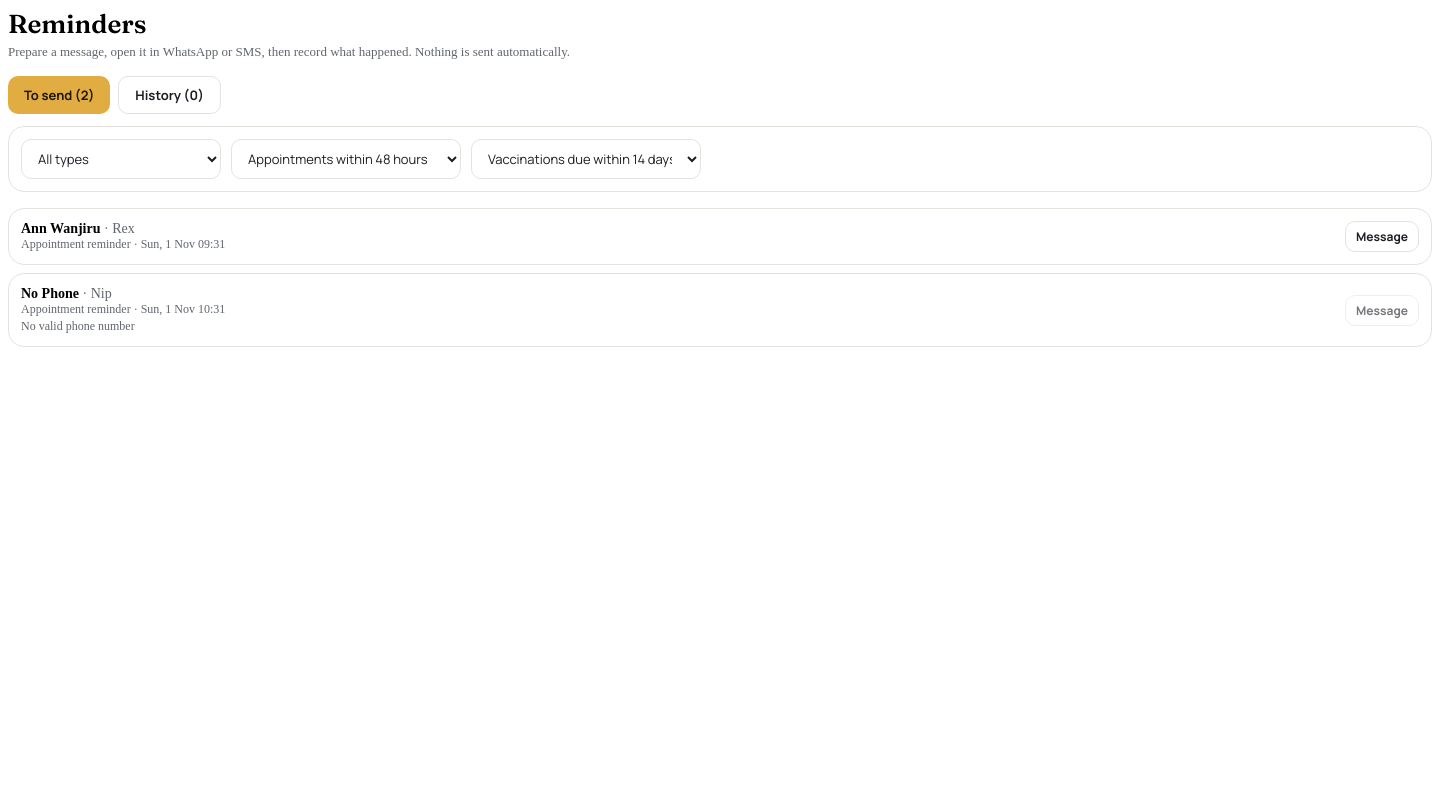
it: RemindersPage › shows a clear message when the database rejects the reminder
Step 1. Click the button with aria-label "Message Ann Wanjiru about Rex" → (1382, 236), box [1345,221,1419,252]
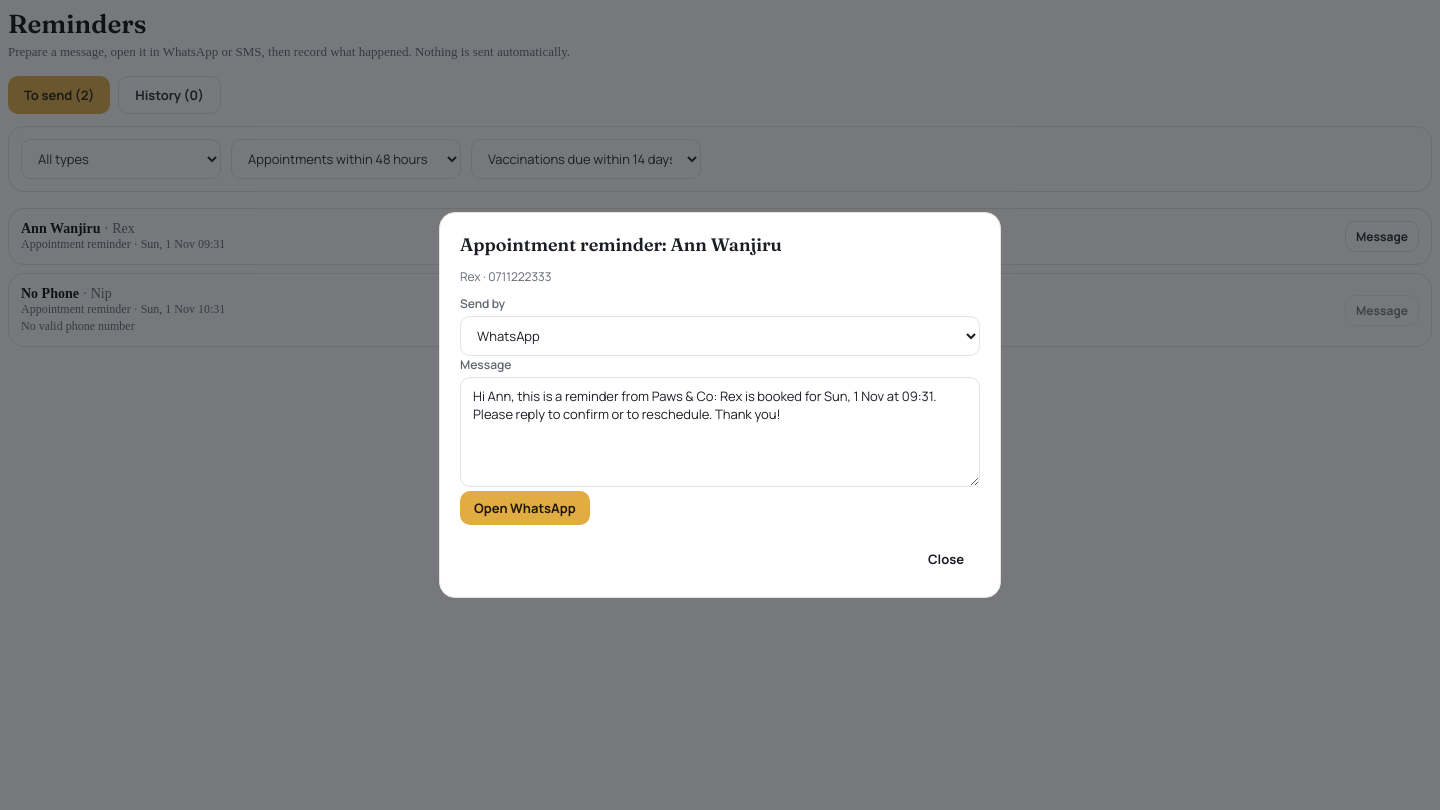
Step 2. Click the link "Open WhatsApp" → (525, 508), box [460,491,590,525]
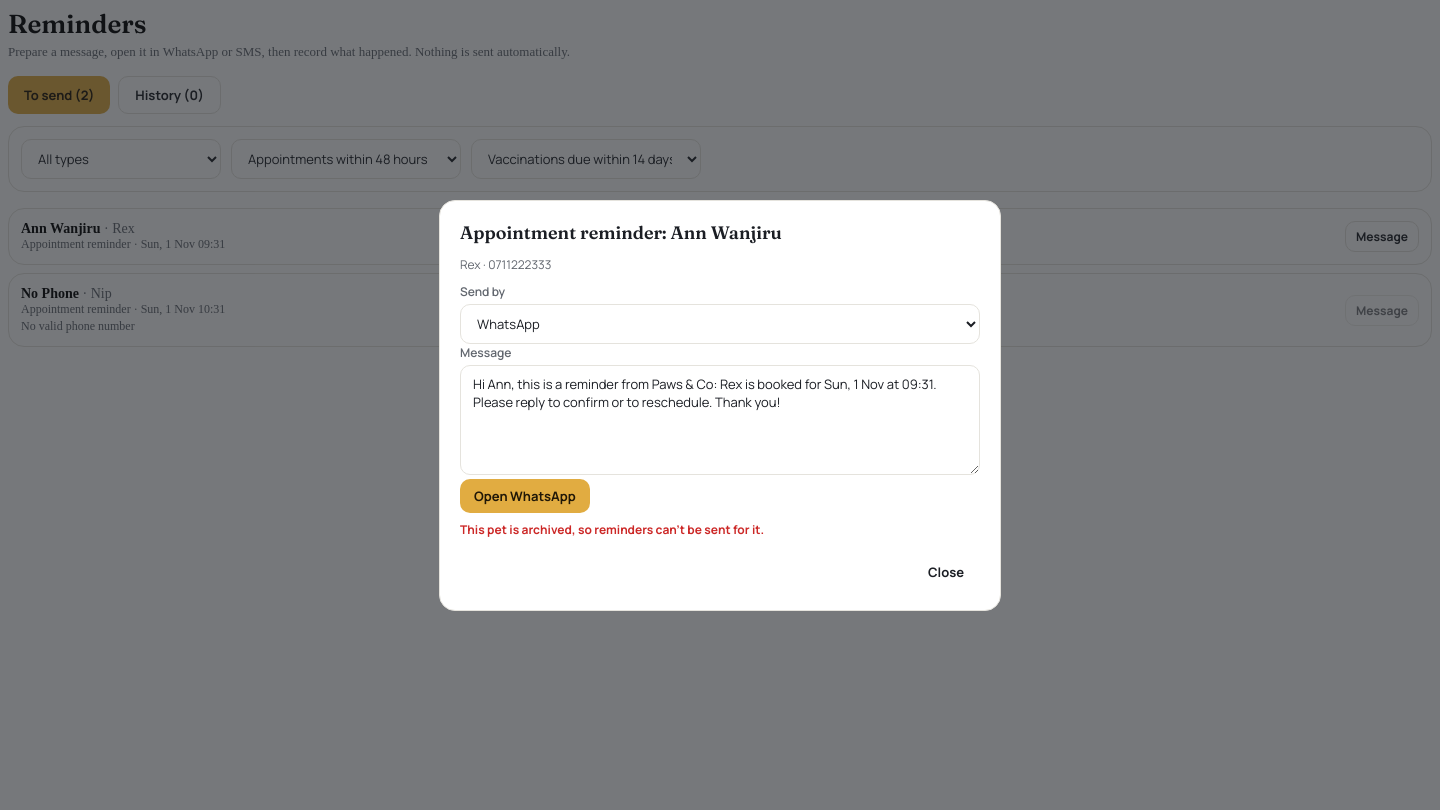
expect the text "This pet is archived, so reminders can't be sent for it." is shown: met, box [460,520,764,538]
